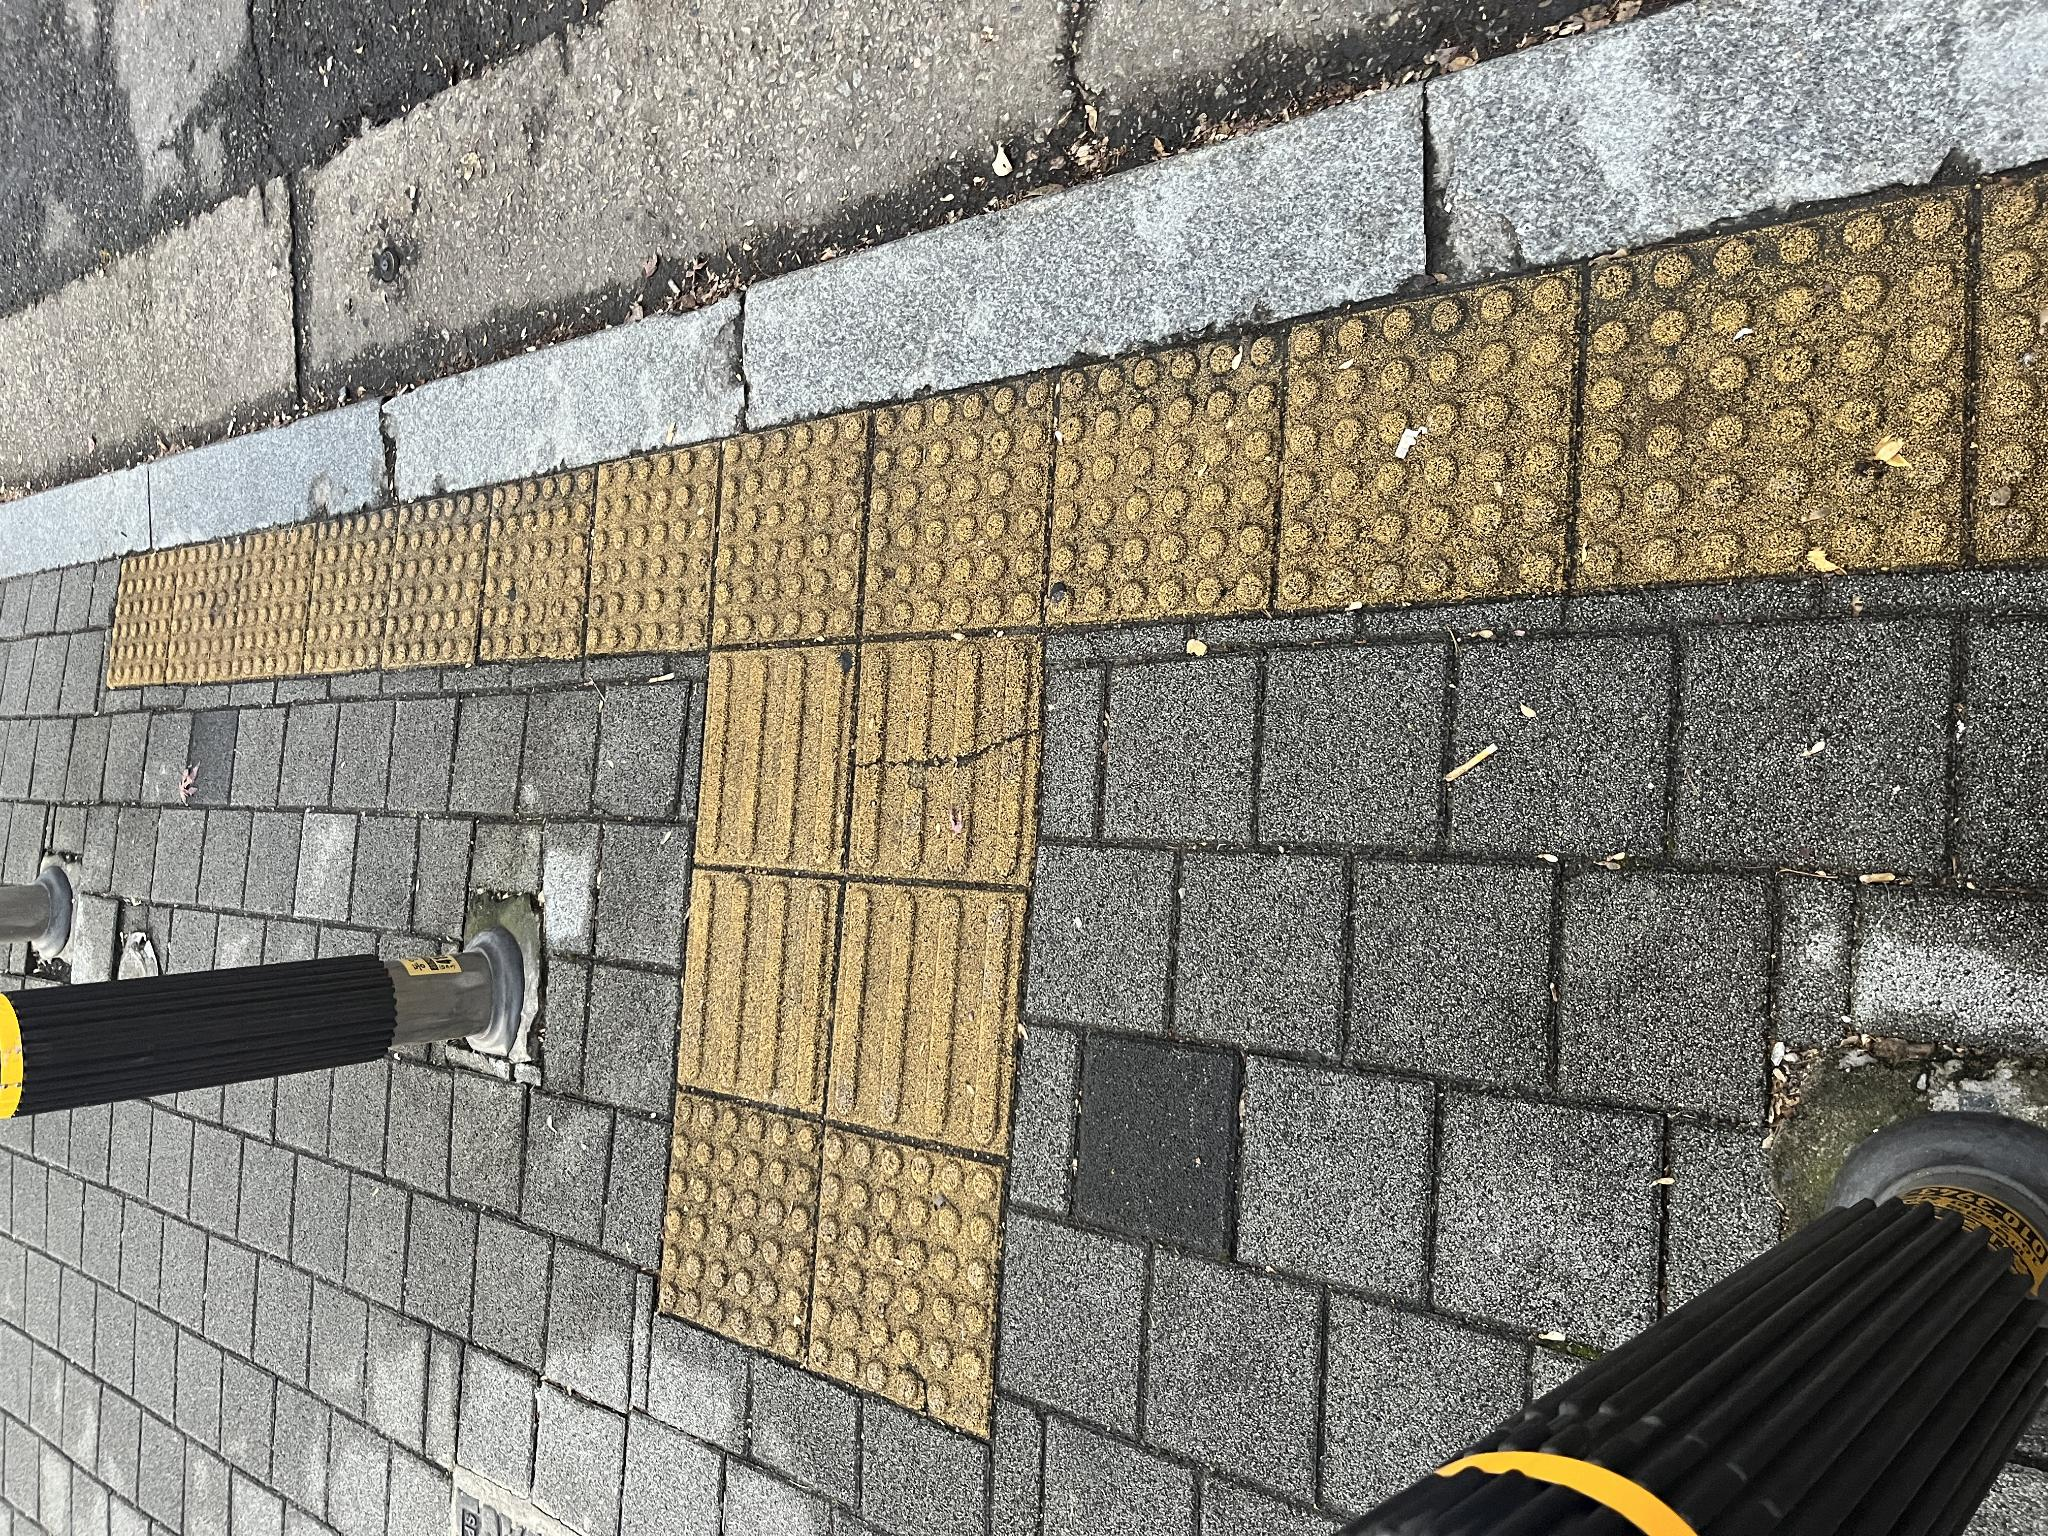Stop block normal: (929, 1283, 1256, 1536), (914, 1047, 1205, 1281), (103, 810, 408, 999), (898, 862, 1163, 1054), (173, 657, 445, 820), (892, 712, 1122, 865), (882, 586, 1093, 718), (876, 481, 1069, 594), (869, 382, 1047, 492)
Straight block broken: (653, 850, 901, 1037)
Straight block normal: (382, 824, 655, 1025), (423, 679, 666, 836), (664, 695, 892, 854)
